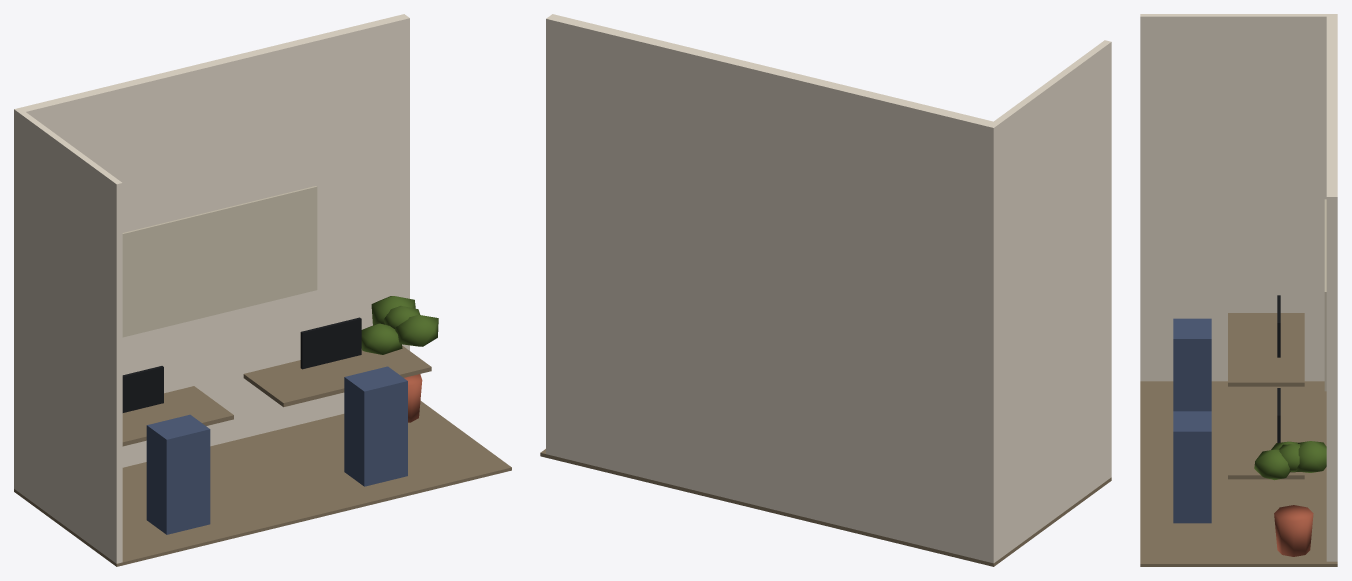
The model's file is city_proxy_office.glb.
The picture shows the model from 3 angles, left to right: view 1: azimuth 30°, elevation 25°; view 2: azimuth 150°, elevation 25°; view 3: azimuth 270°, elevation 25°; orthographic projection. The views are drawn at different scales.
Parts seen in each view (by area): view 1: CityProxyOffice_Back, CityProxyOffice_Side, CityProxyOffice_Floor, CityProxyOffice_Board, CityProxyOffice_Chair0, CityProxyOffice_Chair1, CityProxyOffice_Desk1, CityProxyOffice_Plant, CityProxyOffice_Desk0, CityProxyOffice_Screen1, CityProxyOffice_Screen0; view 2: CityProxyOffice_Back, CityProxyOffice_Side, CityProxyOffice_Floor; view 3: CityProxyOffice_Side, CityProxyOffice_Floor, CityProxyOffice_Back, CityProxyOffice_Desk0, CityProxyOffice_Chair1, CityProxyOffice_Desk1, CityProxyOffice_Chair0, CityProxyOffice_Plant, CityProxyOffice_Pot, CityProxyOffice_Board.
Boxes of the visible parts, x1,y1,x2,y2 form: CityProxyOffice_Back: (19, 14, 409, 467); CityProxyOffice_Side: (14, 108, 122, 563); CityProxyOffice_Floor: (14, 400, 511, 566); CityProxyOffice_Board: (122, 186, 317, 337); CityProxyOffice_Chair0: (146, 414, 210, 534); CityProxyOffice_Chair1: (344, 366, 407, 486); CityProxyOffice_Desk1: (243, 345, 431, 407); CityProxyOffice_Plant: (361, 296, 438, 354); CityProxyOffice_Desk0: (122, 386, 233, 446); CityProxyOffice_Screen1: (300, 317, 361, 369); CityProxyOffice_Screen0: (122, 366, 163, 412); CityProxyOffice_Back: (546, 14, 993, 561); CityProxyOffice_Side: (988, 40, 1111, 563); CityProxyOffice_Floor: (540, 449, 1111, 566); CityProxyOffice_Side: (1140, 14, 1337, 381); CityProxyOffice_Floor: (1140, 381, 1337, 566); CityProxyOffice_Back: (1326, 16, 1337, 561); CityProxyOffice_Desk0: (1228, 313, 1304, 386); CityProxyOffice_Chair1: (1173, 411, 1211, 523); CityProxyOffice_Desk1: (1228, 405, 1304, 479); CityProxyOffice_Chair0: (1173, 318, 1211, 411); CityProxyOffice_Plant: (1254, 441, 1326, 480); CityProxyOffice_Pot: (1274, 505, 1313, 556); CityProxyOffice_Board: (1324, 199, 1326, 391).
Bounding box in the file's own units: 4 × 3.7 × 1.8.
